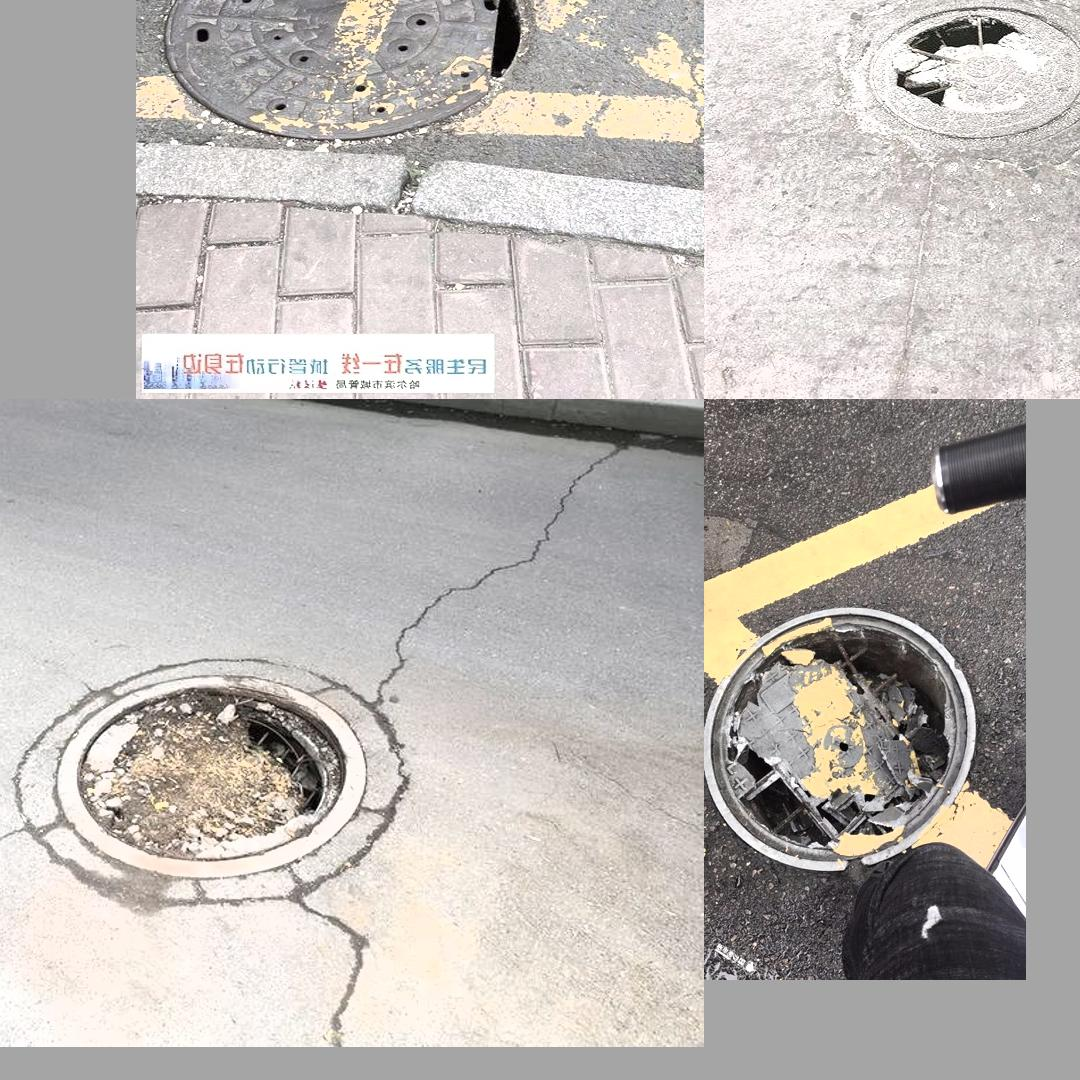broke: (26, 642, 428, 921), (716, 588, 989, 868), (156, 0, 576, 136), (821, 0, 1080, 186)
